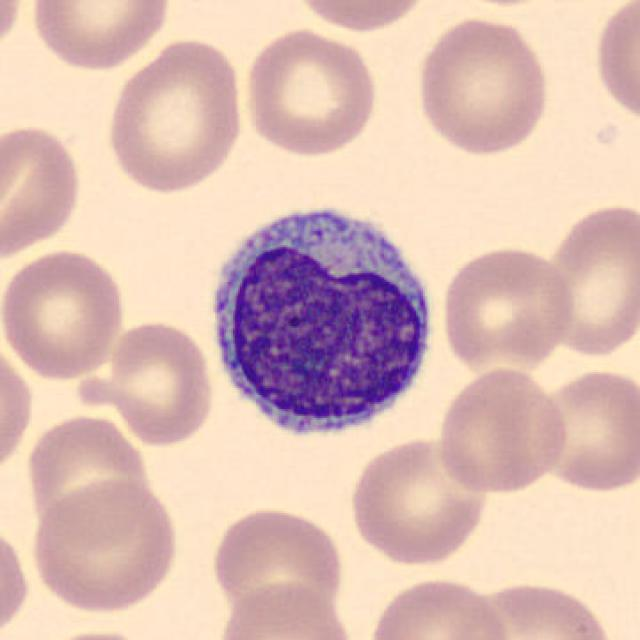Lymphocyte: (196, 194, 444, 450)
RBC: (101, 35, 249, 196), (27, 476, 183, 615), (412, 12, 553, 159), (345, 433, 492, 568), (437, 242, 578, 376), (240, 24, 380, 158), (434, 365, 570, 497), (82, 317, 218, 448), (0, 245, 128, 383), (22, 411, 156, 538), (208, 503, 348, 624), (539, 198, 638, 362), (530, 363, 638, 497), (0, 119, 85, 264), (25, 0, 176, 72), (465, 576, 618, 640), (364, 575, 512, 640), (211, 576, 355, 640), (590, 0, 638, 129), (0, 335, 37, 483), (287, 0, 437, 35), (0, 520, 32, 640), (0, 2, 25, 65)
